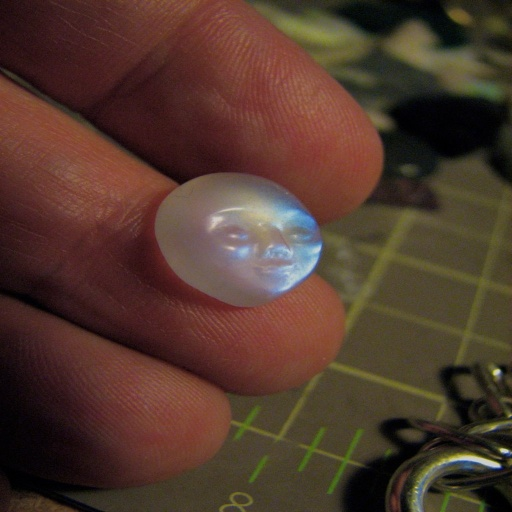hand: (0, 0, 384, 508)
